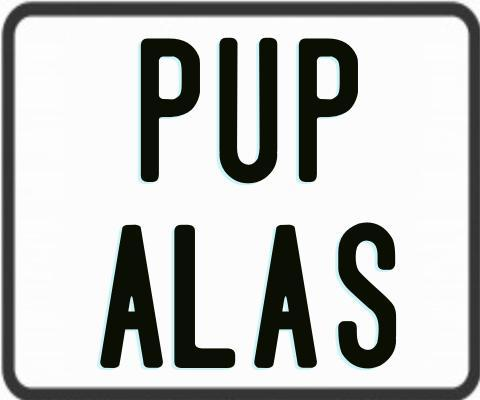A: (98, 225, 165, 370), (253, 222, 316, 365)
L: (171, 224, 234, 369)
P: (297, 35, 360, 184), (139, 38, 201, 187)
S: (336, 219, 397, 366)
U: (219, 35, 277, 186)
